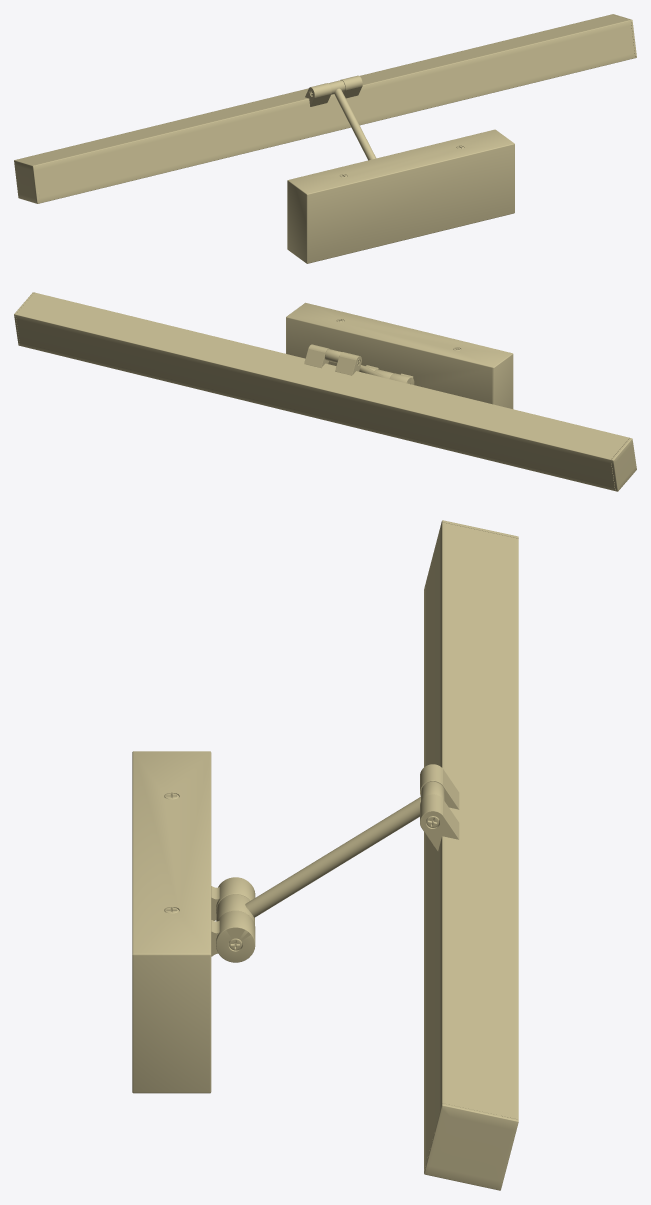
File: mirror lamp.FBX
3 renders of one model, top to bottom at view 1: azimuth 30°, elevation 25°; view 2: azimuth 150°, elevation 25°; view 3: azimuth 270°, elevation 25°, orthographic. The views are drawn at different scales.
Parts seen in each view (by area): view 1: mirror lamp; view 2: mirror lamp; view 3: mirror lamp.
Part boxes in pixels (<box>): mirror lamp: <box>14,14,636,263</box>; mirror lamp: <box>14,292,636,491</box>; mirror lamp: <box>132,520,518,1190</box>.
Bounding box in the file's own units: 350 × 97.73 × 56.99.
